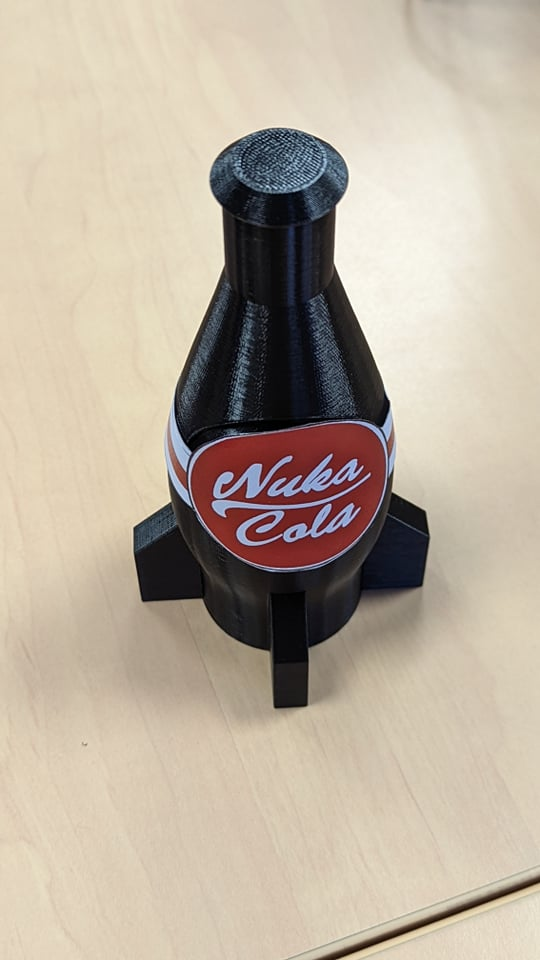bottle: (114, 108, 444, 727)
